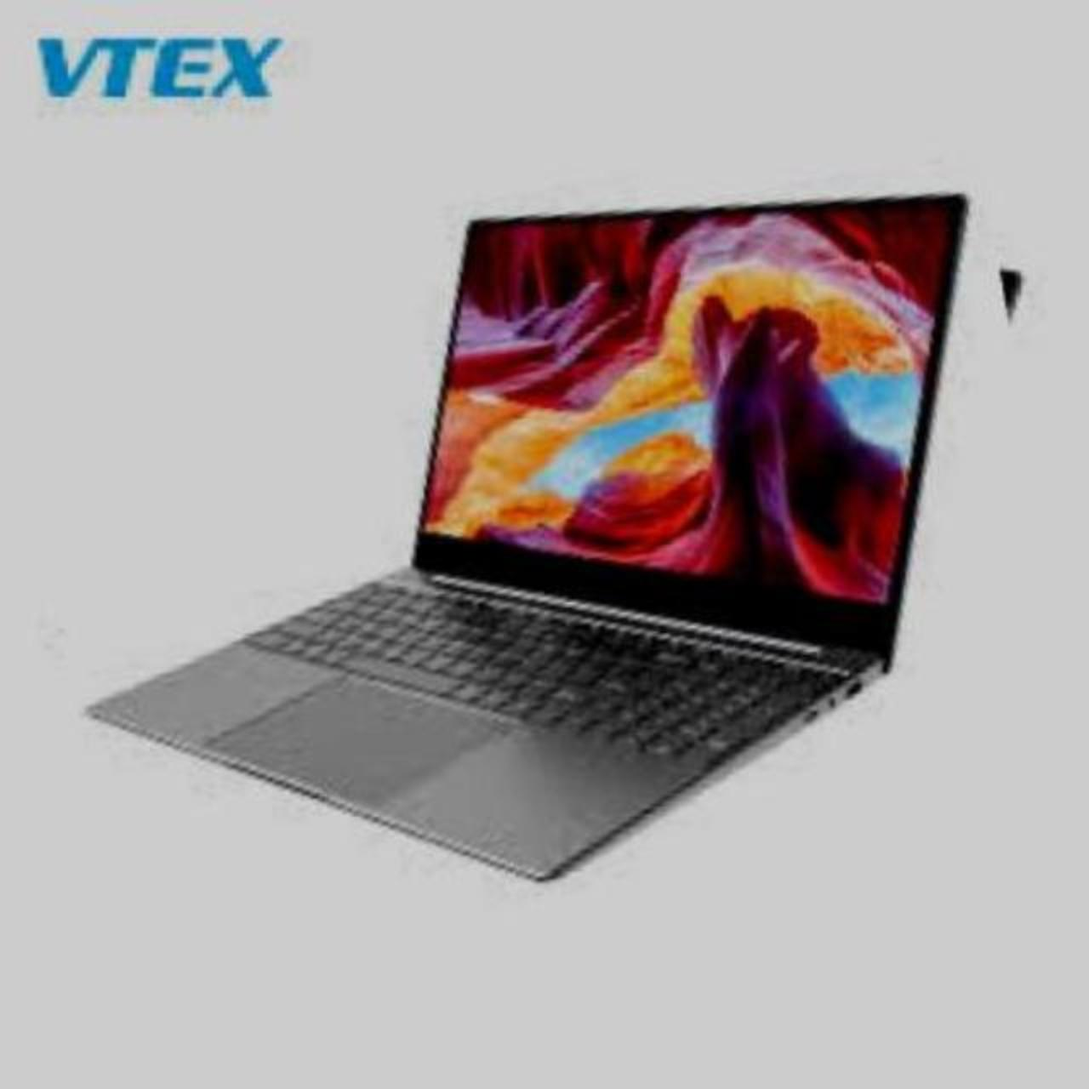laptop: (27, 134, 1069, 962)
